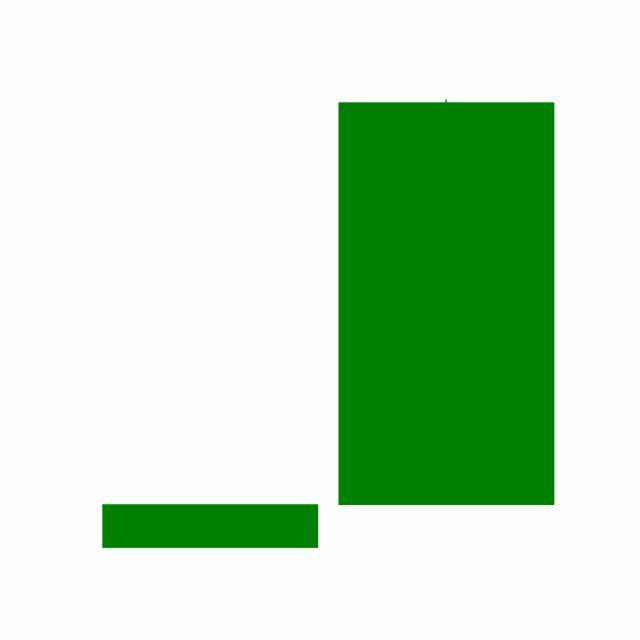Marubozu: (328, 96, 566, 510)
